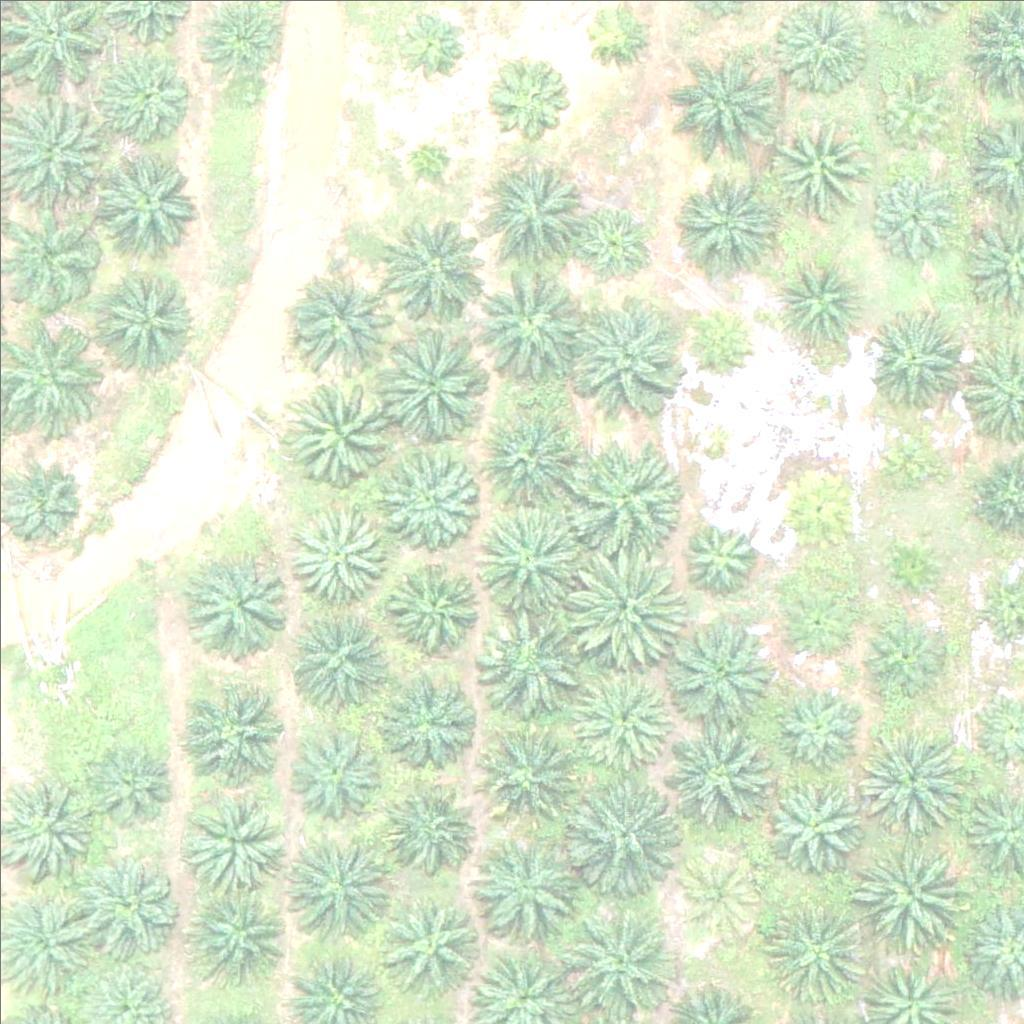Kelapa_Sawit: (567, 901, 680, 1015), (379, 326, 492, 439), (382, 209, 495, 322), (564, 445, 677, 558), (567, 297, 680, 410), (474, 609, 587, 722), (567, 776, 680, 889), (857, 723, 970, 836), (856, 835, 969, 948), (476, 266, 588, 380), (472, 507, 584, 621), (570, 555, 682, 669), (663, 48, 775, 161), (284, 374, 396, 487), (287, 266, 399, 379), (471, 157, 583, 270), (280, 831, 392, 944), (759, 893, 871, 1006), (661, 710, 773, 823), (666, 617, 778, 730), (869, 307, 969, 408), (770, 114, 870, 215), (673, 175, 773, 276), (7, 321, 107, 422), (1, 209, 101, 310), (95, 55, 195, 156), (95, 147, 195, 248), (89, 273, 189, 374), (192, 549, 292, 650), (285, 500, 385, 601), (387, 555, 487, 656), (380, 447, 480, 548), (73, 860, 173, 961), (189, 791, 289, 892), (189, 879, 289, 980), (571, 667, 671, 768), (766, 773, 866, 874), (287, 599, 387, 699), (473, 410, 573, 510), (183, 682, 283, 782), (287, 723, 387, 823), (375, 678, 475, 778), (383, 898, 483, 998), (378, 782, 478, 882), (472, 832, 572, 932), (480, 719, 580, 819), (774, 465, 862, 554), (568, 196, 656, 284), (774, 579, 862, 667), (483, 59, 571, 147), (673, 848, 761, 936), (773, 682, 860, 771), (870, 175, 957, 263), (776, 255, 863, 343), (386, 3, 473, 91), (679, 511, 766, 599), (85, 742, 172, 830), (864, 609, 951, 697), (684, 306, 759, 382), (876, 529, 951, 605), (872, 421, 947, 497), (875, 74, 950, 149), (404, 126, 454, 176)
